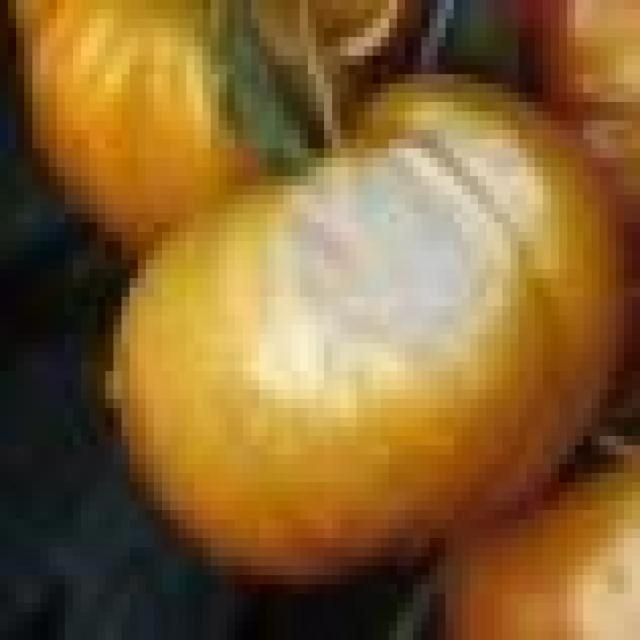Sunscald Fruit: (167, 83, 362, 275)
